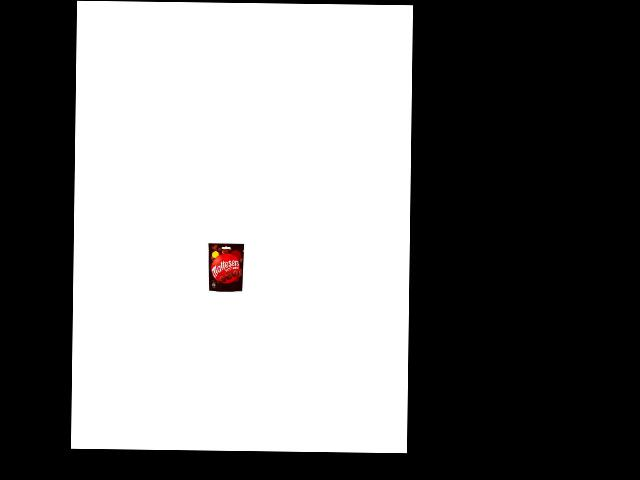chocolate: (207, 242, 244, 292)
